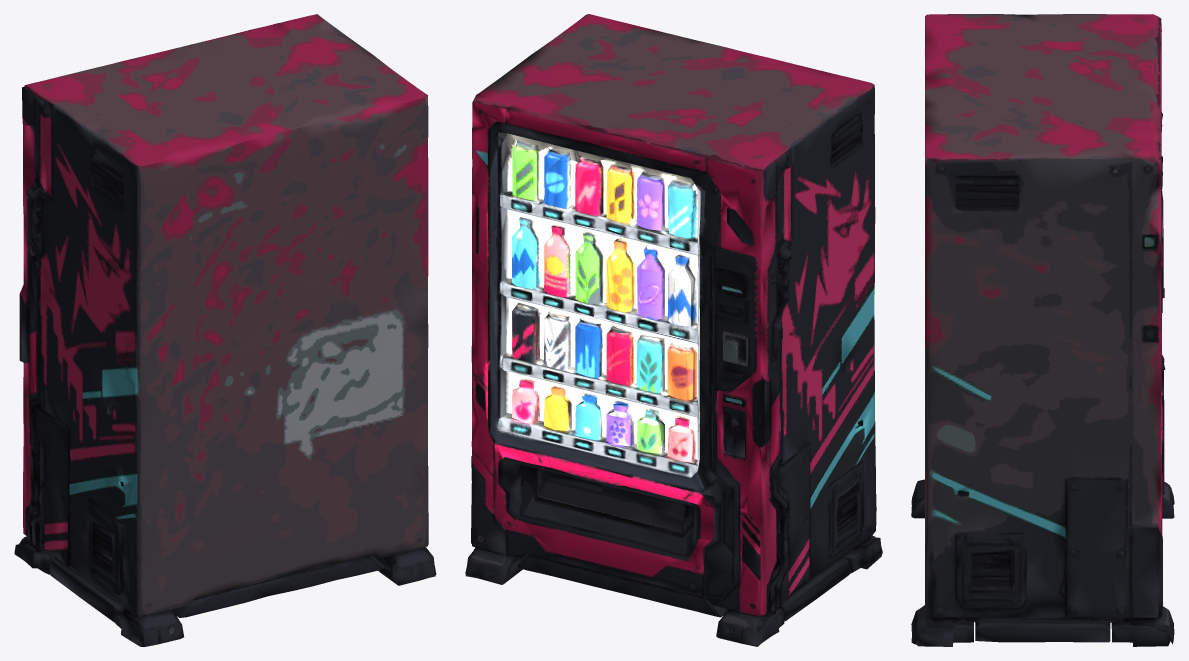
File: vending.glb
The picture shows the model from 3 angles, left to right: view 1: azimuth 30°, elevation 25°; view 2: azimuth 150°, elevation 25°; view 3: azimuth 270°, elevation 25°; orthographic projection. The views are drawn at different scales.
Visible parts, largest first — view 1: pilot_vending; view 2: pilot_vending; view 3: pilot_vending.
Part boxes in pixels (<box>): pilot_vending: <box>14,14,436,646</box>; pilot_vending: <box>465,14,882,646</box>; pilot_vending: <box>911,14,1174,646</box>.
Size of the model in its own units: 1.23 by 1.83 by 0.8972.
Materials: 1 (1 with a texture image).
